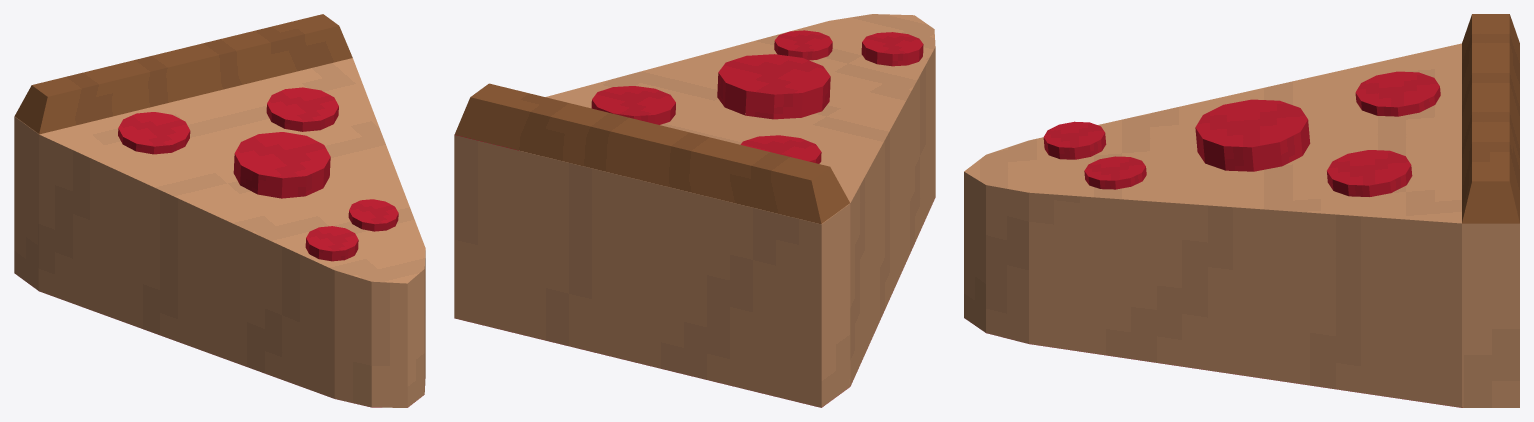
File: Cake.fbx
3 views of the same model, side by side, from view 1: azimuth 30°, elevation 25°; view 2: azimuth 150°, elevation 25°; view 3: azimuth 270°, elevation 25° (orthographic). The views are drawn at different scales.
Parts seen in each view (by area): view 1: Cake; view 2: Cake; view 3: Cake.
Boxes of the visible parts, x1,y1,x2,y2 form: Cake: [14, 14, 425, 407]; Cake: [454, 14, 935, 407]; Cake: [964, 14, 1519, 407].
Bounding box in the file's own units: 0.2562 × 0.1468 × 0.3342.
